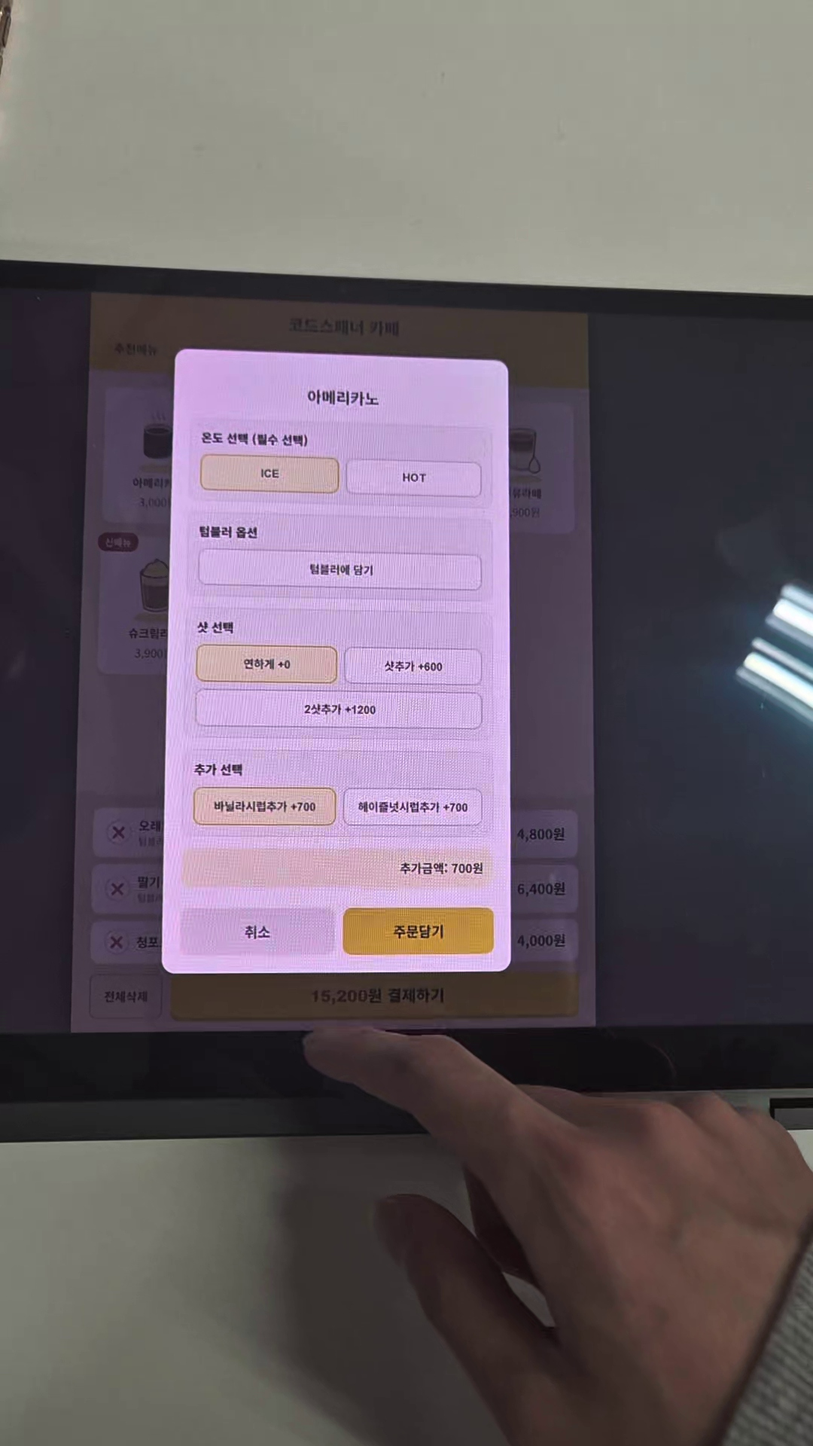action_button: (180, 908, 336, 955), (343, 908, 494, 955)
option_button: (198, 549, 482, 591), (196, 689, 482, 729), (196, 644, 337, 683), (193, 788, 336, 825), (200, 456, 339, 493), (343, 788, 482, 825), (344, 648, 482, 685), (347, 459, 481, 497)
popup_modal: (161, 350, 511, 973)
